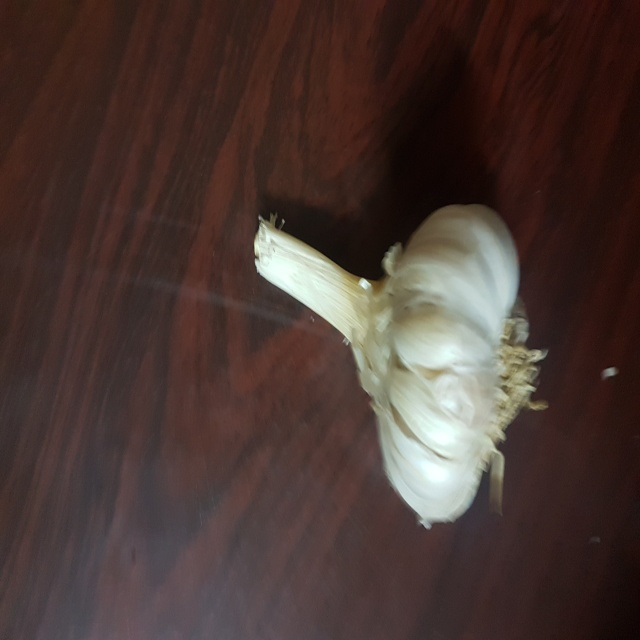garlic: (254, 197, 557, 530)
